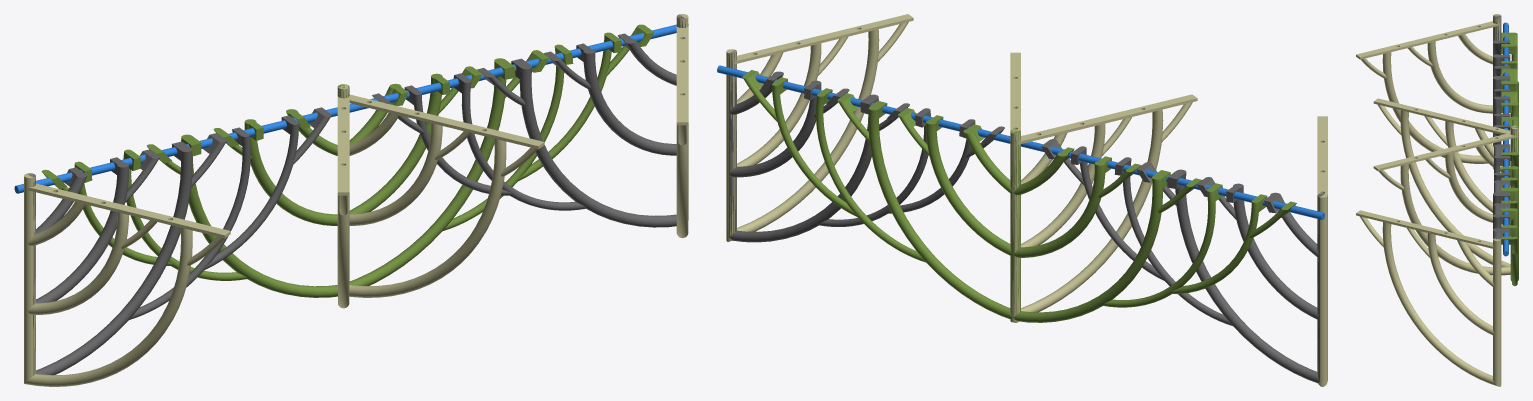
File: Zusammengesetzt_2_Rechen_Stern_3D_Dickere_Wurzeln.obj
The picture shows the model from 3 angles, left to right: view 1: azimuth 30°, elevation 25°; view 2: azimuth 150°, elevation 25°; view 3: azimuth 270°, elevation 25°; orthographic projection. The views are drawn at different scales.
Visible parts, largest first — view 1: Volumenkörper5:3, Volumenkörper5:4, Volumenkörper5, Volumenkörper5:1, Volumenkörper5:7, Volumenkörper5:2, Volumenkörper1, Volumenkörper5:5, Volumenkörper5:6; view 2: Volumenkörper5, Volumenkörper5:2, Volumenkörper5:3, Volumenkörper5:1, Volumenkörper5:5, Volumenkörper5:6, Volumenkörper1, Volumenkörper5:4, Volumenkörper5:7; view 3: Volumenkörper5:5, Volumenkörper5:6, Volumenkörper5:4, Volumenkörper5:7, Volumenkörper5, Volumenkörper5:3, Volumenkörper5:2, Volumenkörper5:1, Volumenkörper1.
Part boxes in pixels (left/top/right/bottom): Volumenkörper5:3: left=27, top=107, right=331, bottom=375; Volumenkörper5:4: left=24, top=173, right=230, bottom=386; Volumenkörper5: left=341, top=24, right=654, bottom=285; Volumenkörper5:1: left=372, top=14, right=685, bottom=227; Volumenkörper5:7: left=338, top=84, right=544, bottom=297; Volumenkörper5:2: left=41, top=84, right=346, bottom=297; Volumenkörper1: left=14, top=24, right=676, bottom=193; Volumenkörper5:5: left=676, top=14, right=688, bottom=238; Volumenkörper5:6: left=337, top=85, right=349, bottom=308; Volumenkörper5: left=742, top=70, right=1016, bottom=319; Volumenkörper5:2: left=1013, top=130, right=1296, bottom=322; Volumenkörper5:3: left=1041, top=139, right=1324, bottom=383; Volumenkörper5:1: left=729, top=50, right=1004, bottom=242; Volumenkörper5:5: left=726, top=14, right=913, bottom=241; Volumenkörper5:6: left=1010, top=94, right=1197, bottom=322; Volumenkörper1: left=717, top=65, right=1324, bottom=219; Volumenkörper5:4: left=1317, top=116, right=1327, bottom=386; Volumenkörper5:7: left=1010, top=52, right=1020, bottom=322; Volumenkörper5:5: left=1356, top=210, right=1501, bottom=386; Volumenkörper5:6: left=1373, top=98, right=1518, bottom=266; Volumenkörper5:4: left=1356, top=14, right=1500, bottom=163; Volumenkörper5:7: left=1373, top=125, right=1518, bottom=275; Volumenkörper5: left=1501, top=127, right=1518, bottom=286; Volumenkörper5:3: left=1493, top=15, right=1510, bottom=169; Volumenkörper5:2: left=1501, top=32, right=1518, bottom=128; Volumenkörper5:1: left=1493, top=144, right=1510, bottom=239; Volumenkörper1: left=1503, top=22, right=1508, bottom=256.
Bounding box in the file's own units: 911 × 273 × 274.
